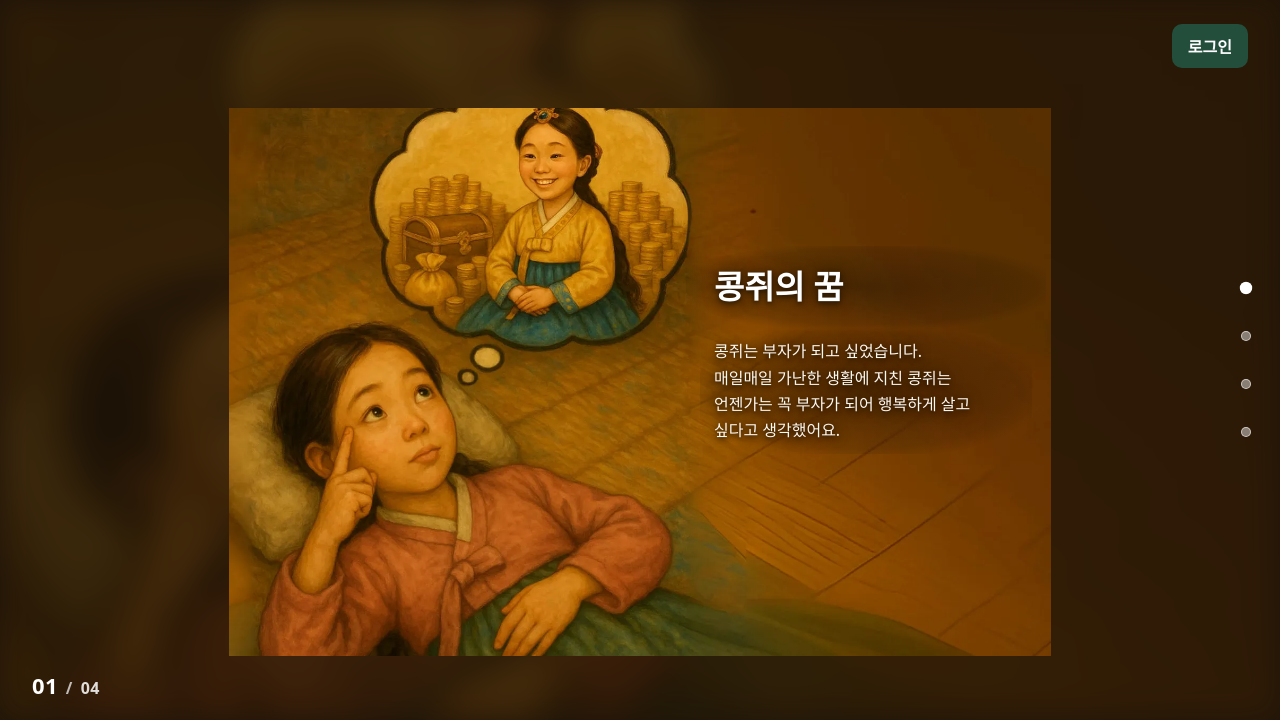
landing lint refactor behavior › retains all four stories with their own image dimensions and overlay anchors
Expected: the text with class "dk-desc" is not empty, [714,340,970,441]
Click the button named "Go to page 2": (1246,336) [1224,314,1268,358]
Wait 700 ms
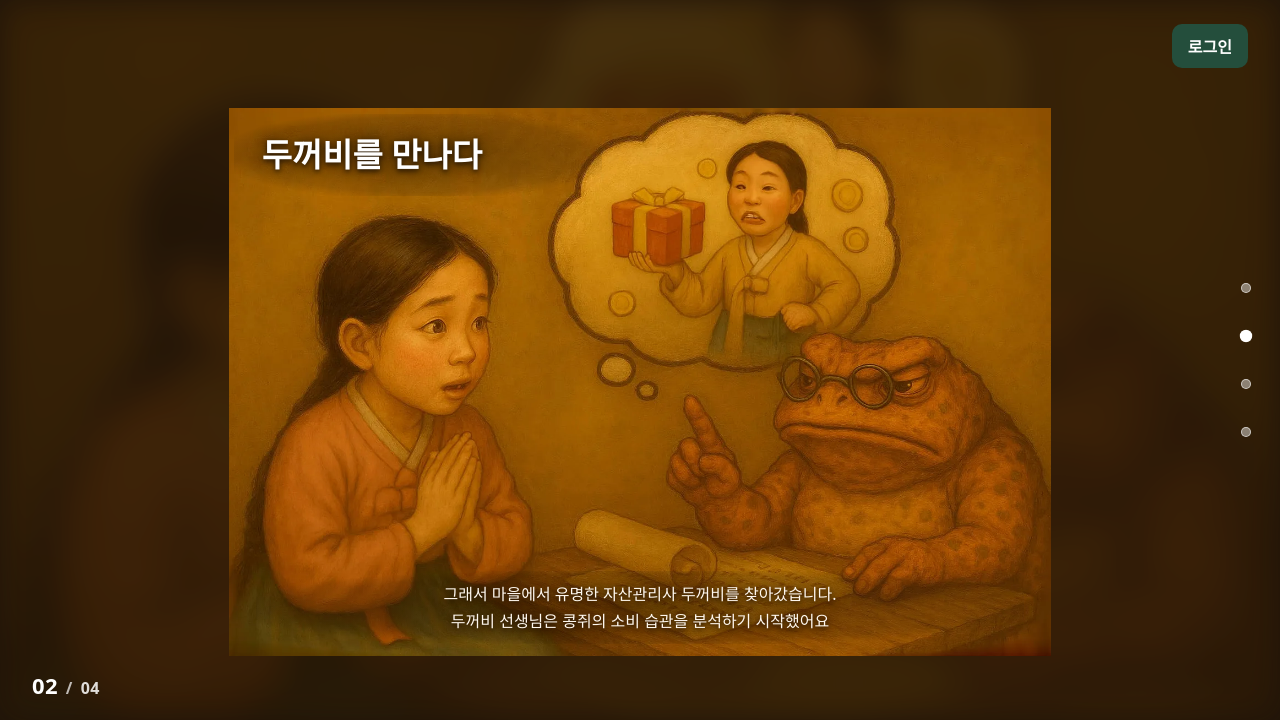
Click the button named "Go to page 3": (1246,384) [1224,362,1268,406]
Wait 700 ms
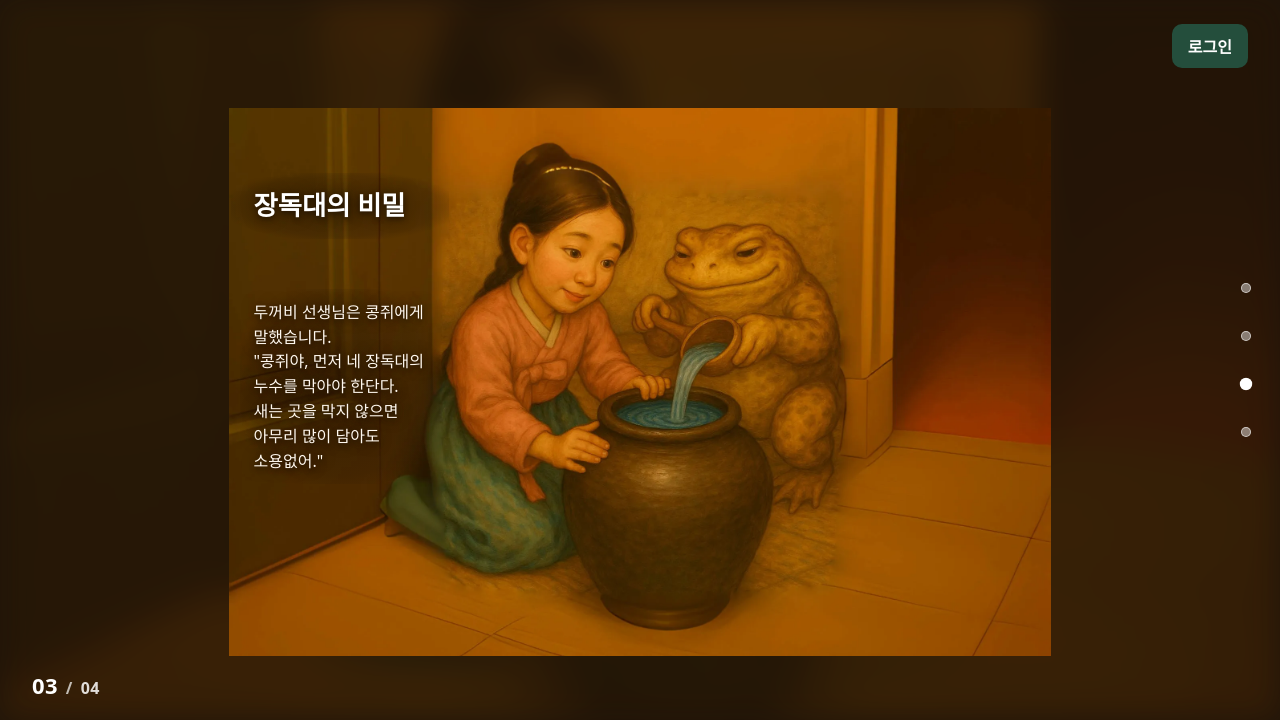
Click the button named "Go to page 4": (1246,432) [1224,410,1268,454]
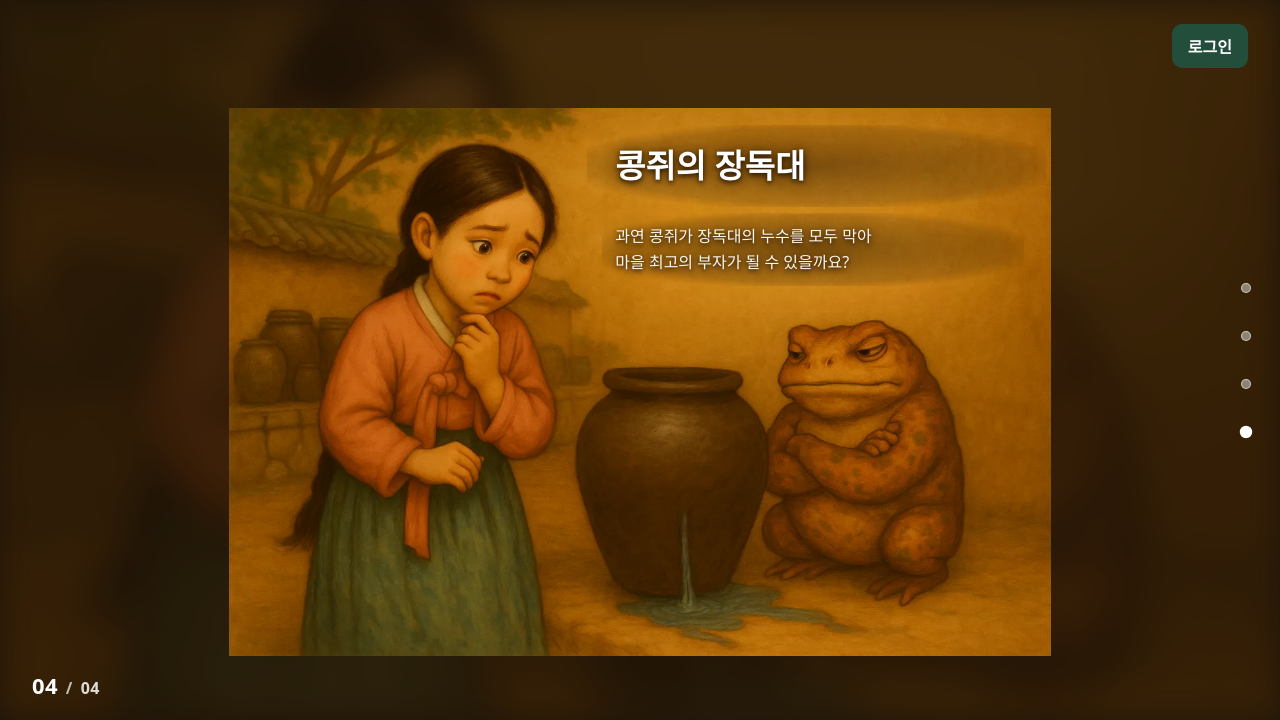
Expected: the element with class "dk-counter" reads "04/04", [32,670,100,700]
